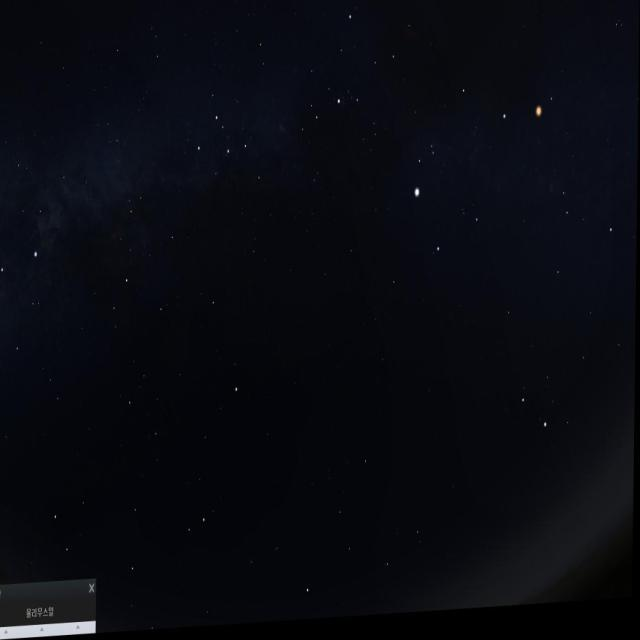cassiopeia: (194, 98, 265, 203)
